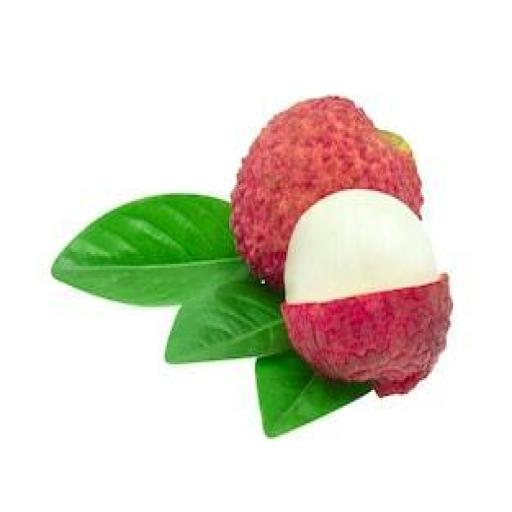lychee: (231, 97, 422, 287), (282, 190, 451, 395)
